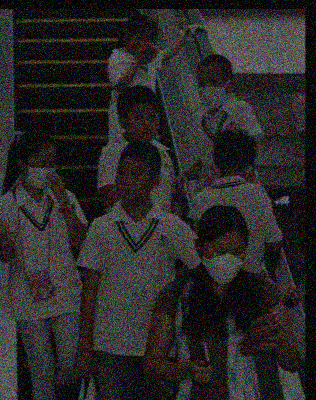with_mask: (202, 243, 248, 286), (196, 73, 228, 108), (25, 158, 58, 190)
without_mask: (114, 165, 148, 203), (126, 109, 161, 144), (125, 34, 155, 55)
